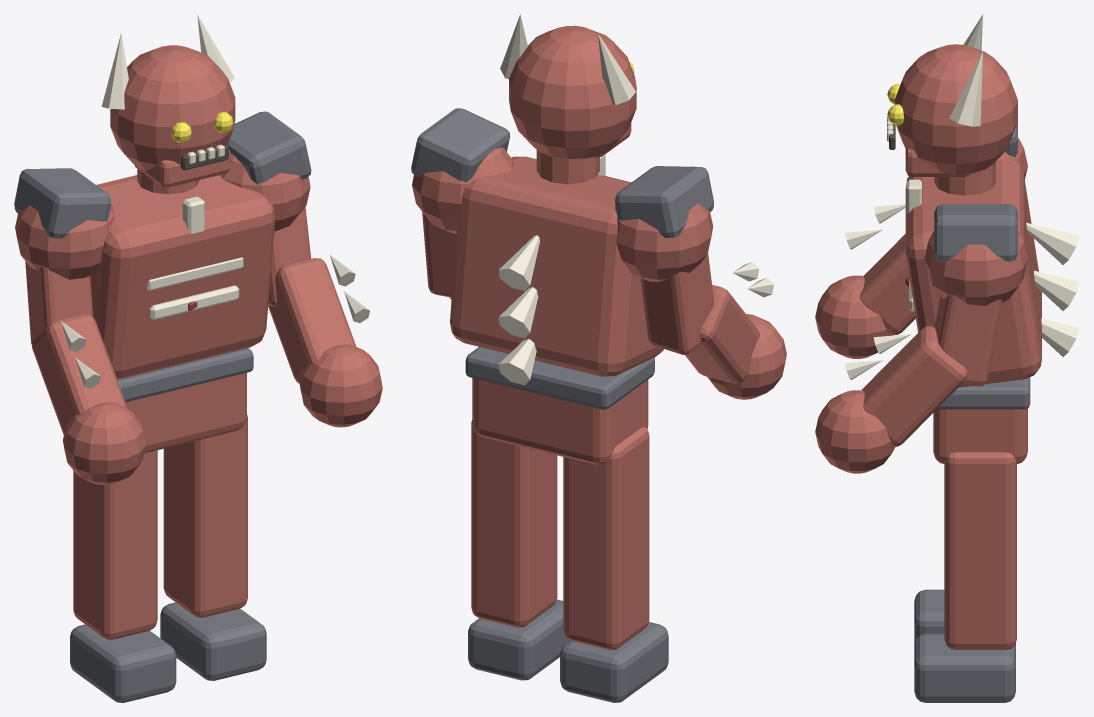
The model's file is BossZombie.fbx.
The picture shows the model from 3 angles, left to right: view 1: azimuth 30°, elevation 25°; view 2: azimuth 150°, elevation 25°; view 3: azimuth 270°, elevation 25°; orthographic projection. The views are drawn at different scales.
Parts seen in each view (by area): view 1: Torso, Leg_R, Leg_L, Head, Forearm_R, Boot_L, Hips, Boot_R, Forearm_L, Fist_L, Fist_R, Pauldron_L (+13 smaller); view 2: Torso, Leg_L, Leg_R, Head, Hips, Boot_L, Boot_R, Belt, Arm_L, Pauldron_L, Shoulder_L, Pauldron_R (+10 smaller); view 3: Leg_R, Head, Torso, Forearm_R, Boot_R, Shoulder_R, Fist_R, Hips, Pauldron_R, Arm_R, Fist_L, Forearm_L (+9 smaller).
Boxes of the visible parts, x1,y1,x2,y2 form: Torso: (90, 175, 275, 379); Leg_R: (163, 414, 247, 617); Leg_L: (73, 450, 157, 639); Head: (110, 45, 235, 170); Forearm_R: (268, 258, 356, 383); Boot_L: (70, 624, 176, 702); Hips: (125, 373, 246, 453); Boot_R: (160, 602, 266, 680); Forearm_L: (31, 314, 126, 434); Fist_L: (63, 402, 146, 485); Fist_R: (299, 344, 382, 427); Pauldron_L: (14, 168, 111, 238); Torso: (450, 156, 663, 376); Leg_L: (563, 426, 649, 649); Leg_R: (471, 420, 557, 627); Head: (509, 25, 636, 159); Hips: (472, 378, 648, 464); Boot_L: (560, 622, 668, 702); Boot_R: (468, 599, 570, 680); Belt: (465, 347, 654, 409); Arm_L: (640, 253, 714, 354); Pauldron_L: (615, 166, 713, 237); Shoulder_L: (615, 203, 713, 281); Pauldron_R: (411, 108, 510, 182); Leg_R: (944, 452, 1016, 649); Head: (894, 44, 1017, 174); Torso: (905, 158, 1041, 387); Forearm_R: (861, 326, 967, 446); Boot_R: (914, 633, 1015, 702); Shoulder_R: (924, 231, 1027, 305); Fist_R: (815, 390, 895, 473); Hips: (933, 408, 1027, 463); Pauldron_R: (934, 204, 1017, 261); Arm_R: (934, 295, 1002, 386); Fist_L: (815, 275, 893, 358); Forearm_L: (859, 234, 915, 334).
Size of the model in its own units: 1.6 by 3.19 by 1.2.
